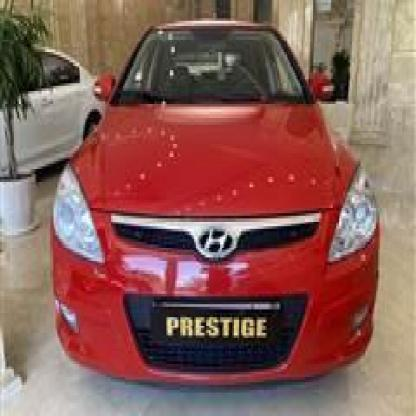Car: (52, 31, 378, 395), (0, 31, 109, 215)
